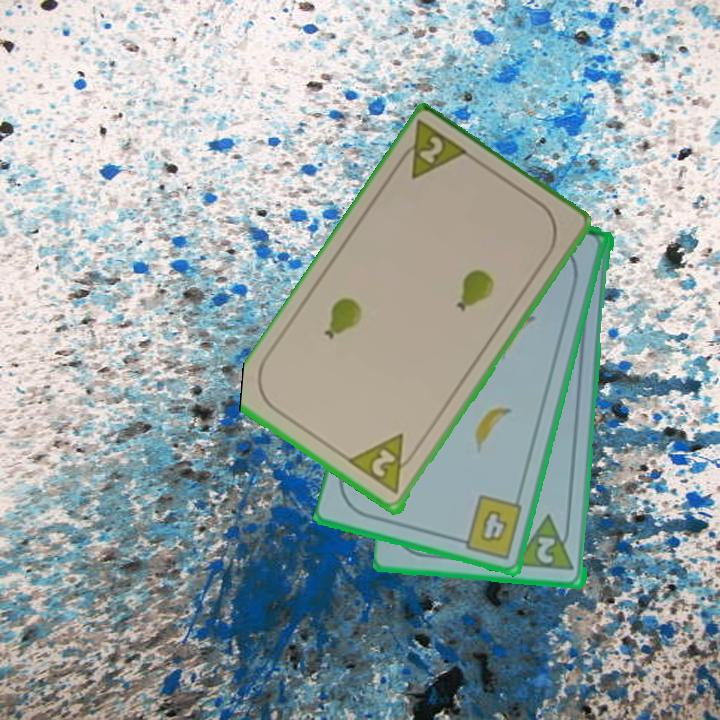2p: (391, 118, 474, 184), (346, 430, 423, 498), (533, 533, 559, 567)
4b: (453, 491, 526, 562)
